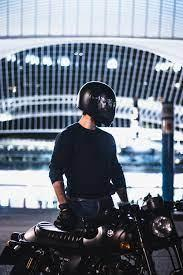helmet: (73, 77, 121, 128)
